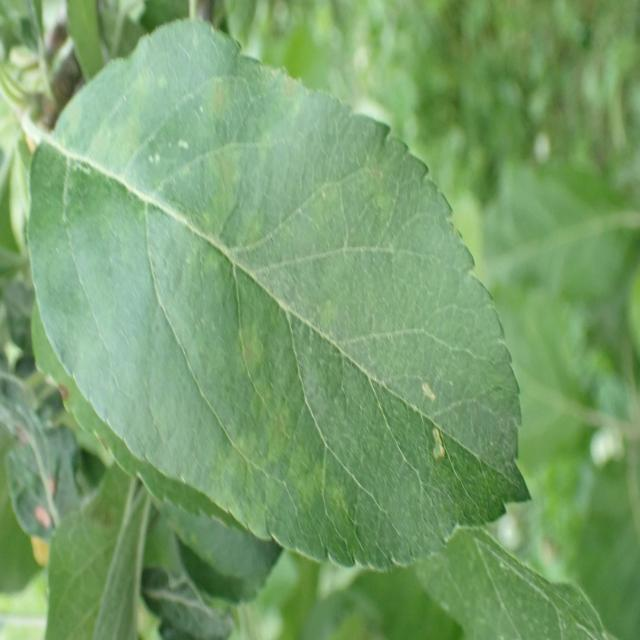scab: (52, 40, 518, 553)
